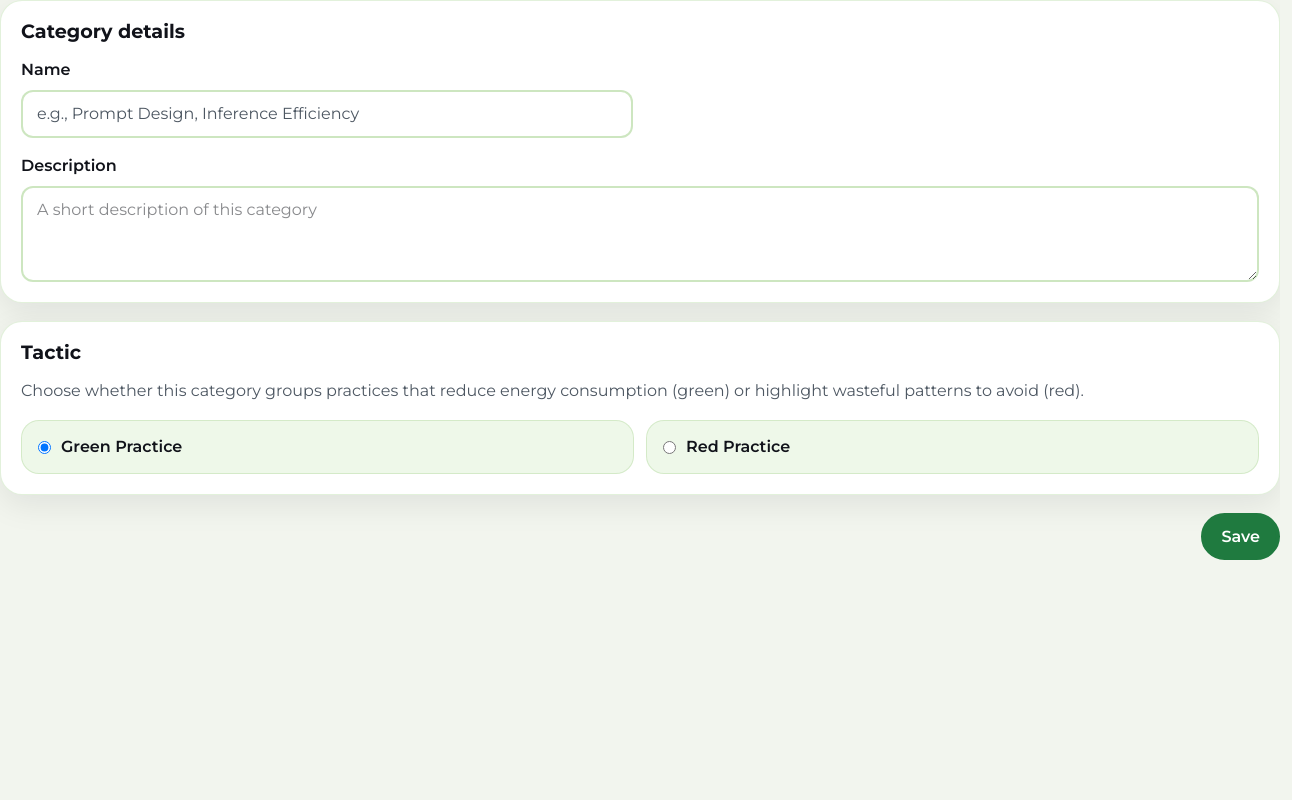
Test: CategoryForm › disables save button while saving
Type "Prompt Design" into the field labelled "Name" at (327, 114), box [21,90,633,138]
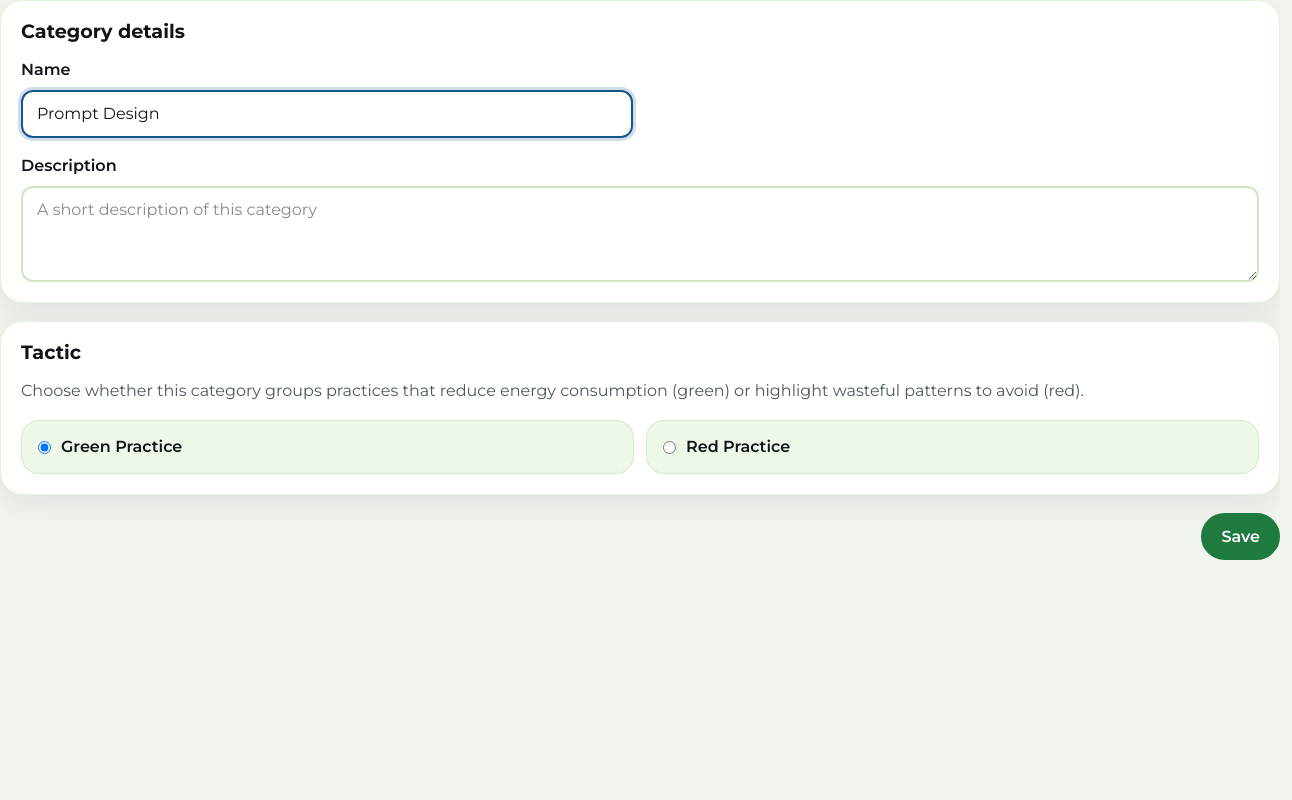
Click the button "Save" at (1241, 537), box [1201,513,1280,560]
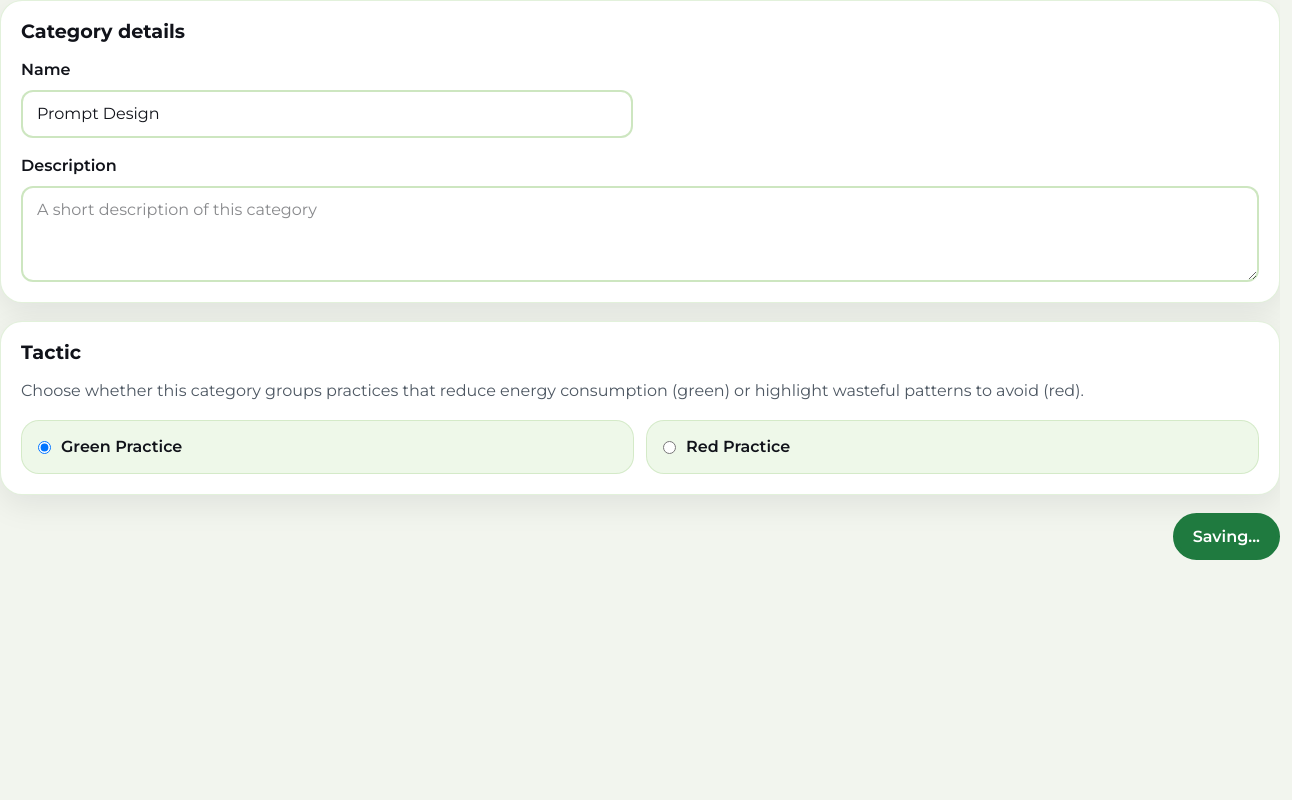
Result: the button "Saving..." is disabled at [1173,513,1280,560]
